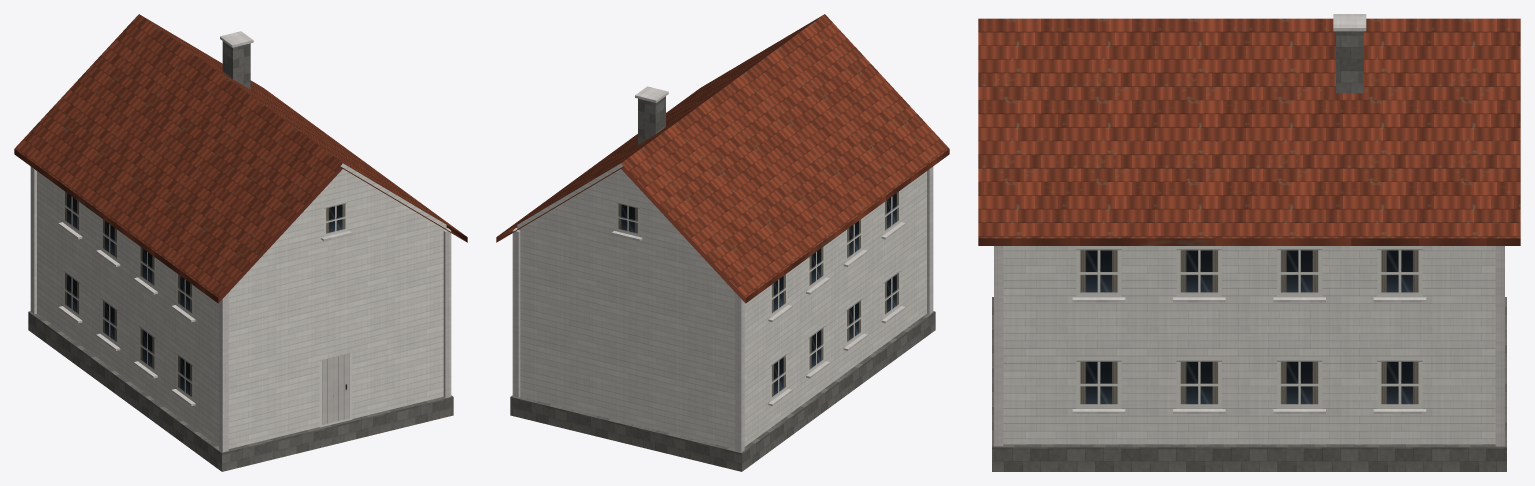
Rendered from house.glb.
3 renders of one model, left to right at view 1: azimuth 30°, elevation 25°; view 2: azimuth 150°, elevation 25°; view 3: azimuth 270°, elevation 25°, orthographic. The views are drawn at different scales.
Visible parts, largest first — view 1: house_LOD0; view 2: house_LOD0; view 3: house_LOD0.
Boxes of the visible parts, box(x1,y1,x2,y2) form: house_LOD0: box(14, 14, 467, 471); house_LOD0: box(496, 14, 949, 471); house_LOD0: box(978, 14, 1520, 471).
Size of what is drawn, in the model's own units: 8.4 by 9.62 by 11.9.
Materials: 6 (6 with a texture image).
